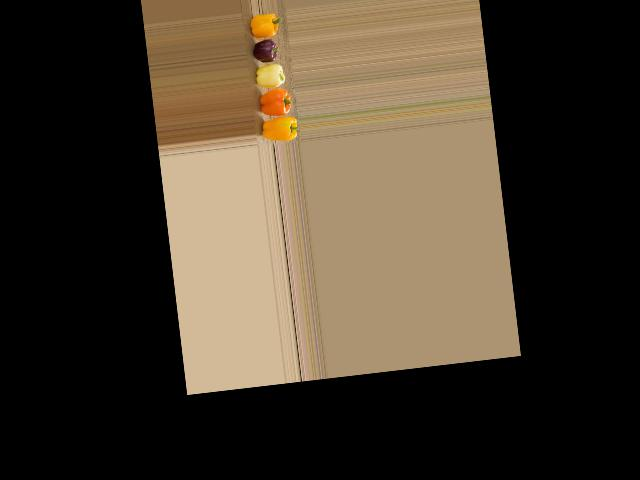bell_pepper: (243, 9, 284, 37)
